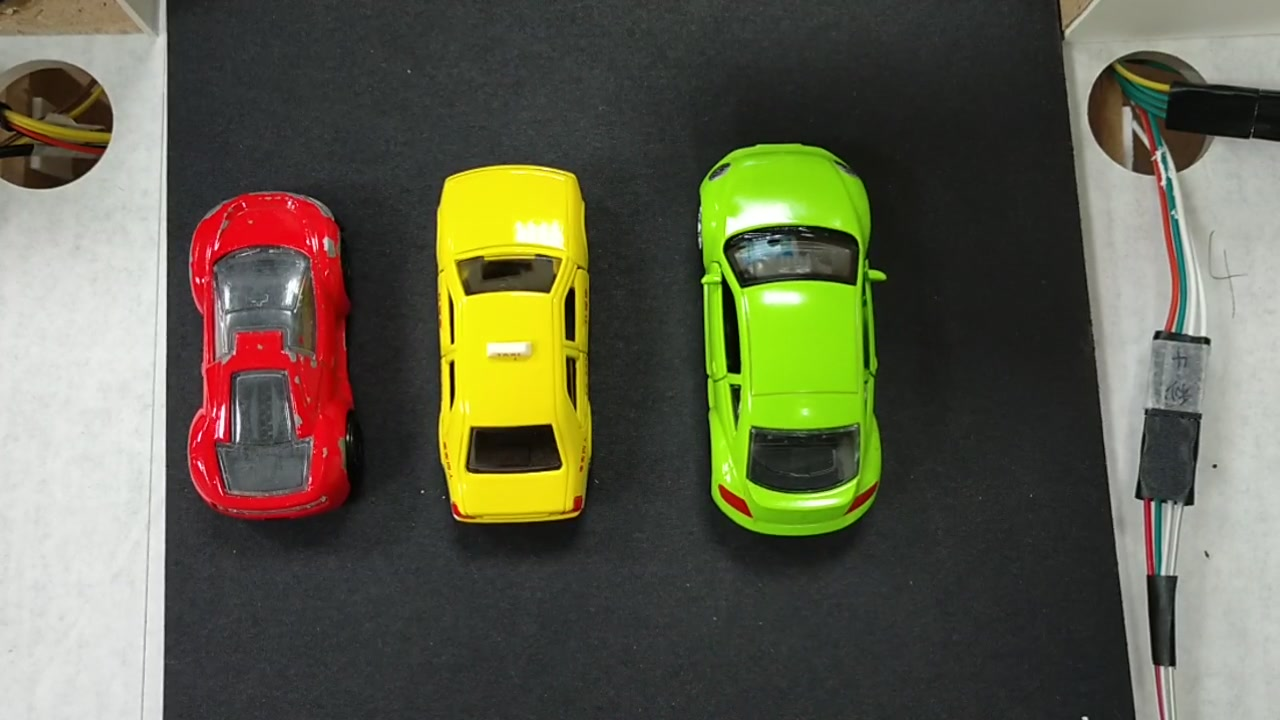car: (695, 143, 896, 535), (186, 192, 358, 521), (439, 170, 596, 529)
